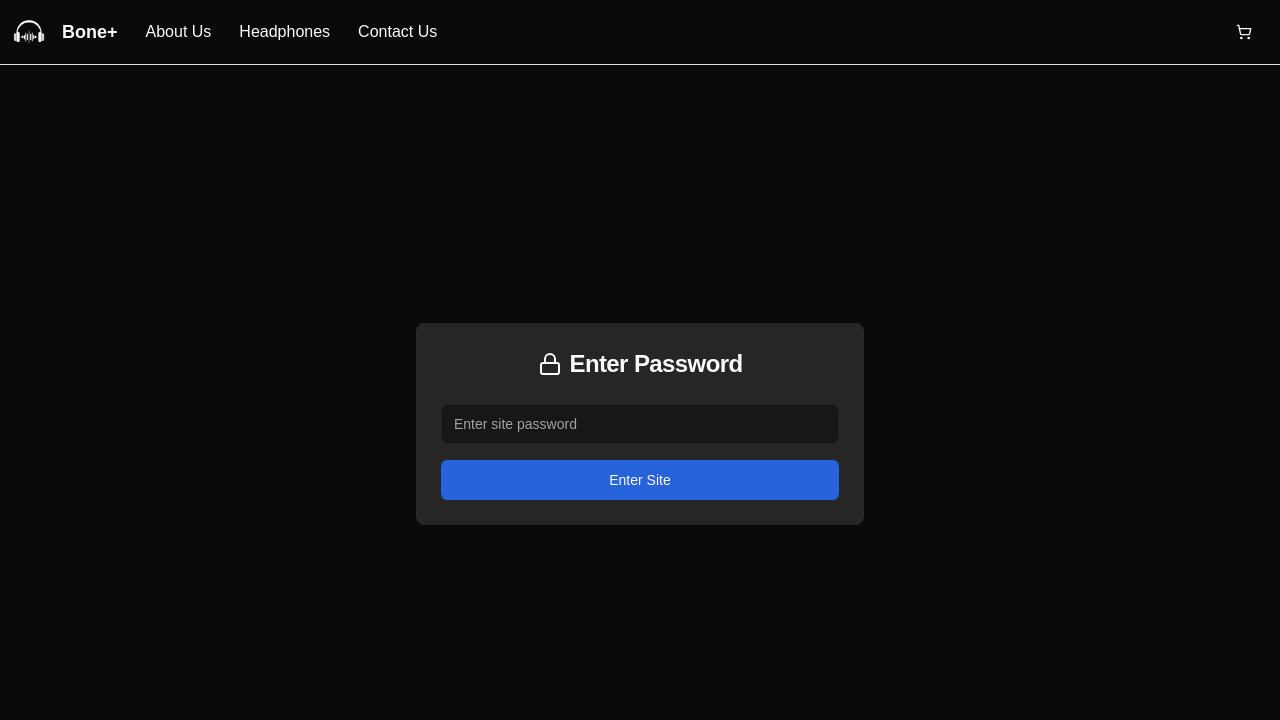
Test: Authentication Flows › Site Password Protection › should reject incorrect site password
// Enter incorrect password
Type "wrongpassword" into the password field with placeholder "Enter site password".
click(640, 424); type("wrongpassword")  # box top-left (441, 404), bottom-right (839, 444)
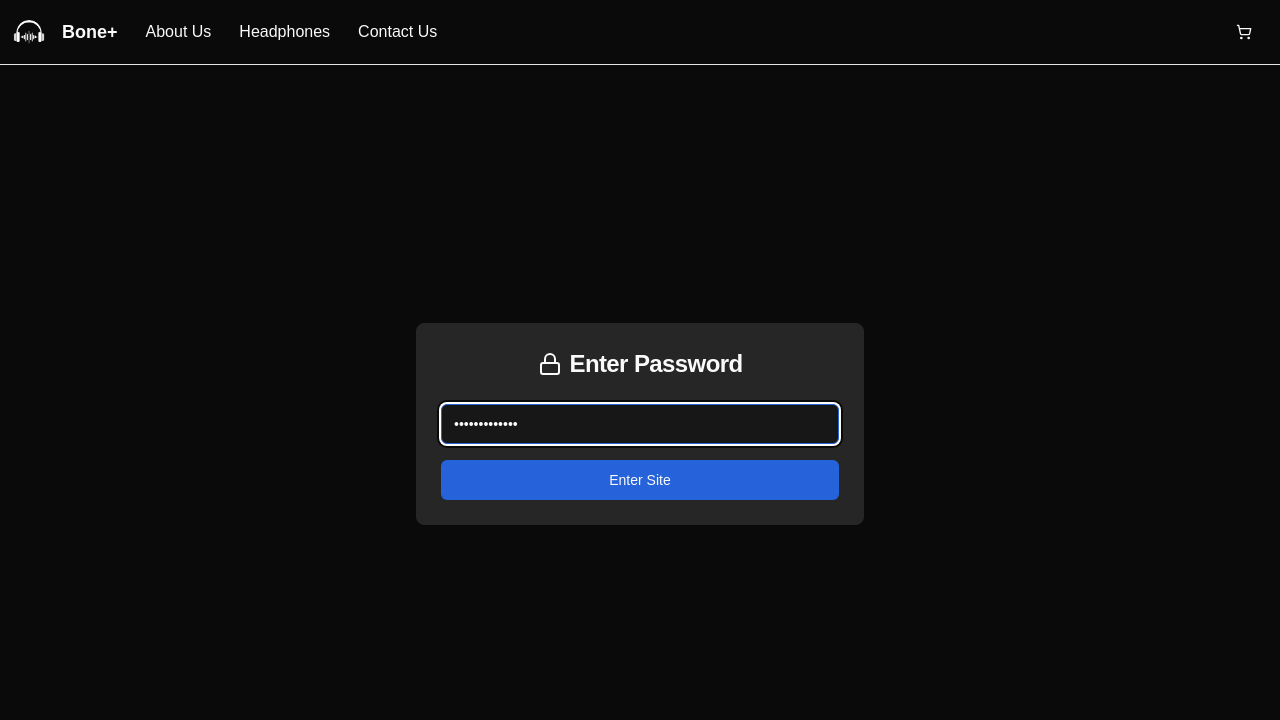
Click the button "Enter Site".
click(640, 480)  # box top-left (441, 460), bottom-right (839, 500)
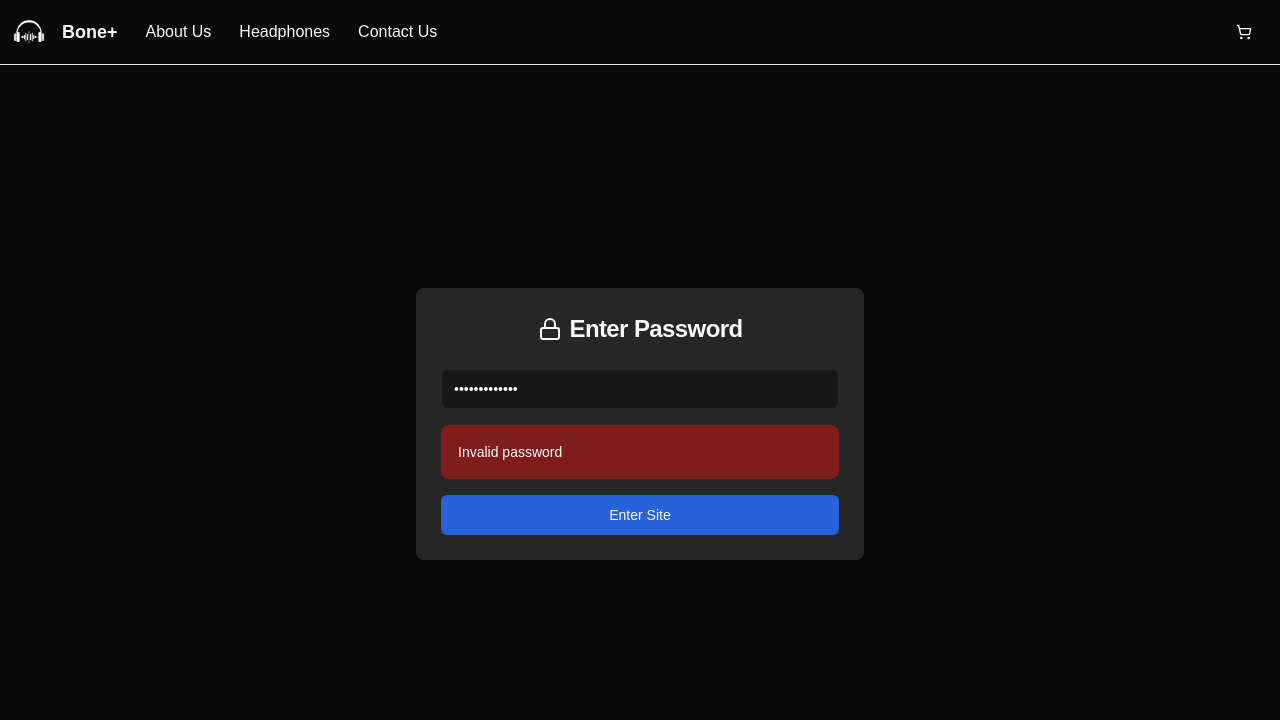
Now the text "Invalid password" is shown, box top-left (458, 444), bottom-right (562, 460)
